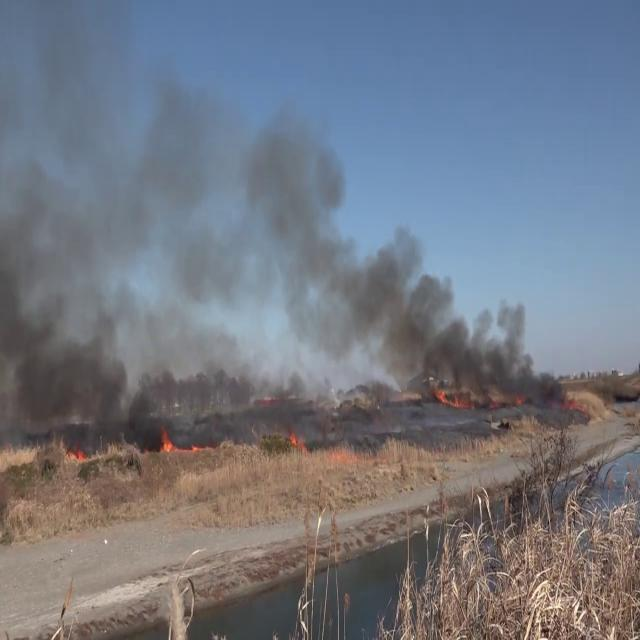Fire: (160, 423, 177, 458)
Smoke: (1, 62, 537, 425)
